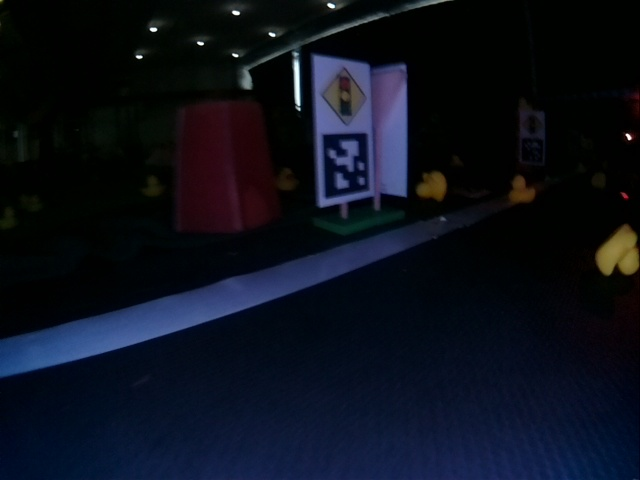Duckie: (597, 228, 635, 275), (418, 171, 447, 201), (508, 175, 534, 203), (274, 168, 297, 190), (142, 176, 161, 197)
QR code: (319, 133, 370, 200), (521, 138, 543, 162)
Signal sign: (321, 66, 370, 130), (521, 112, 544, 136)
